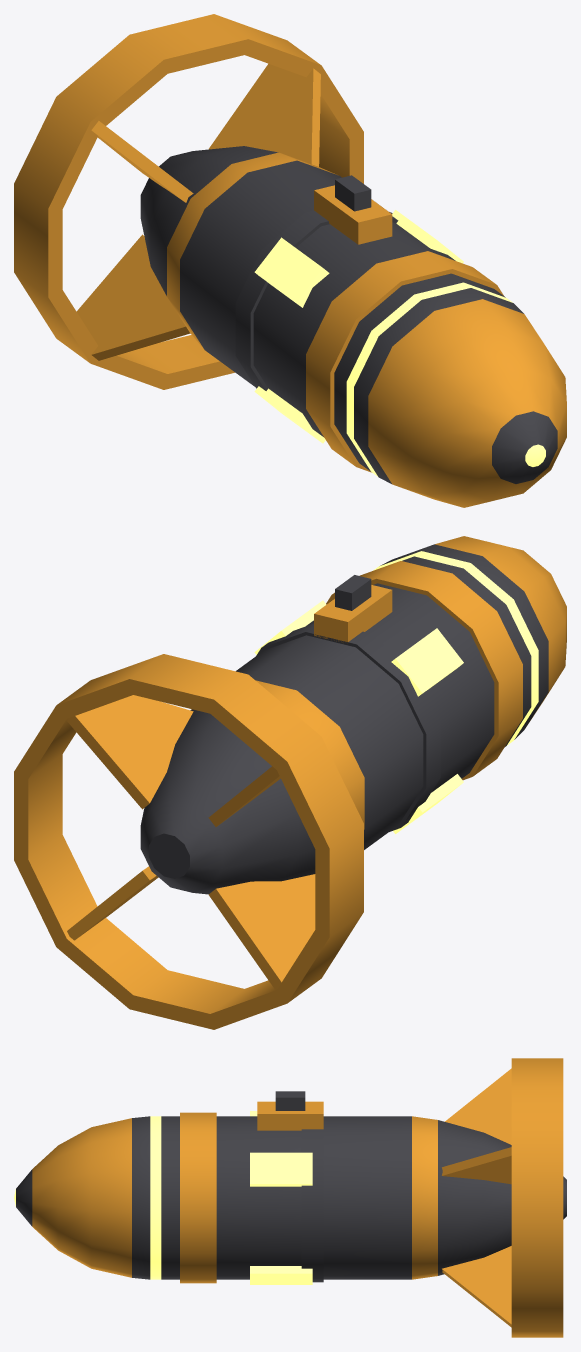
The model's file is DroneBomb.fbx.
The picture shows the model from 3 angles, top to bottom: view 1: azimuth 30°, elevation 25°; view 2: azimuth 150°, elevation 25°; view 3: azimuth 270°, elevation 25°; orthographic projection. The views are drawn at different scales.
Parts seen in each view (by area): view 1: DroneBomb; view 2: DroneBomb; view 3: DroneBomb.
Boxes of the visible parts, x1,y1,x2,y2 form: DroneBomb: (14,14,566,507); DroneBomb: (14,536,566,1029); DroneBomb: (14,1058,566,1337).
Size of the model in its own units: 1.49 by 1.49 by 3.
